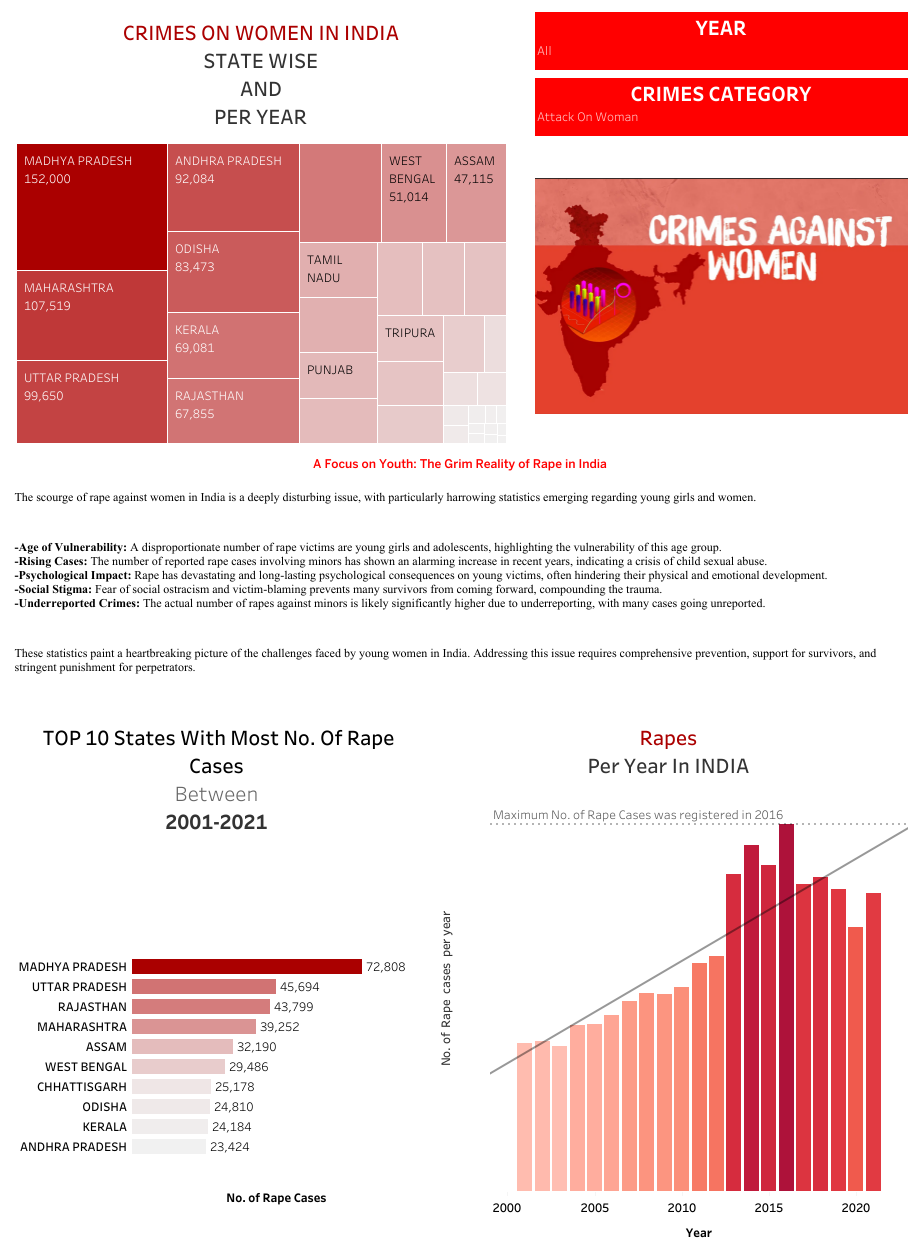

This screenshot's page, from the dashboard's own definition file:
{"tool":"tableau","page":{"name":"Dashboard 1","canvas":[920,1260],"ordinal":0},"visuals":[{"type":"worksheet","title":"Crimes","mark":"Automatic","box":[8,8,523,444.3]},{"type":"filter","title":"Crimes","param":"[federated.02b06zm0yrhjtv1epmeuf0f8od79].[none:Year:ok]","box":[531,8,381,62]},{"type":"parameter","param":"[Parameters].[Parameter 2]","box":[531,70,381,62]},{"type":"image","param":"Image/Screenshot 2024-08-18 142443.png","box":[531,132,381,320.3]},{"type":"text","box":[8,452.3,904,220]},{"type":"worksheet","title":"Top 10 States (Rape)","mark":"Automatic","rows":["State"],"cols":["Rape"],"box":[8,713.3,417,538.7]},{"type":"worksheet","title":"Rapes Per Year","mark":"Bar","rows":["Rape"],"cols":["Year"],"box":[425,713.3,487,538.7]}]}

Visuals, with their boxes in screenshot pixels (x1, y1, x2, y2), scaled from the page's 920x1260 canvas onto the 919x1259 screenshot:
"Crimes" worksheet: left=8, top=8, right=530, bottom=452
"Crimes" filter: left=530, top=8, right=911, bottom=70
parameter: left=530, top=70, right=911, bottom=132
image: left=530, top=132, right=911, bottom=452
text: left=8, top=452, right=911, bottom=672
"Top 10 States (Rape)" worksheet: left=8, top=713, right=425, bottom=1251
"Rapes Per Year" worksheet (Bar marks): left=425, top=713, right=911, bottom=1251
